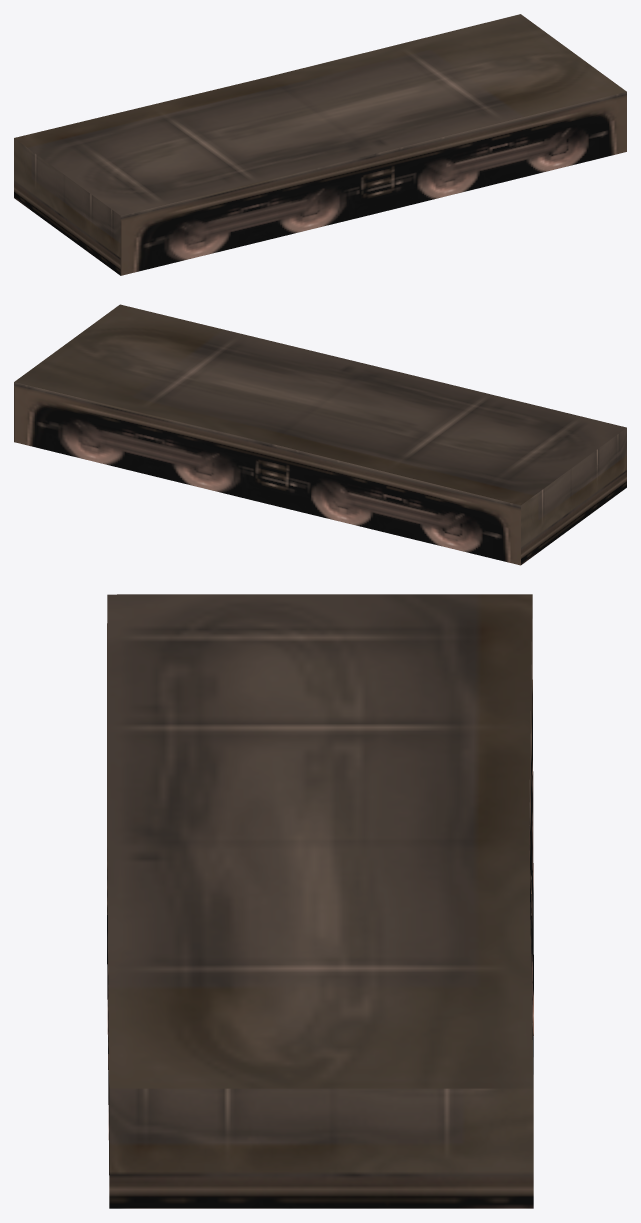
Rendered from TRAIN02.glb.
3 views of the same model, one above another, from view 1: azimuth 30°, elevation 25°; view 2: azimuth 150°, elevation 25°; view 3: azimuth 270°, elevation 25° (orthographic). The views are drawn at different scales.
Visible parts, largest first — view 1: TRAIN02; view 2: TRAIN02; view 3: TRAIN02.
Part boxes in pixels (x1,y1,x2,y2): TRAIN02: (14, 14, 626, 275); TRAIN02: (14, 304, 626, 565); TRAIN02: (107, 594, 533, 1208).
Bounding box in the file's own units: 1382 × 156 × 504.
1 material, 1 textured.
